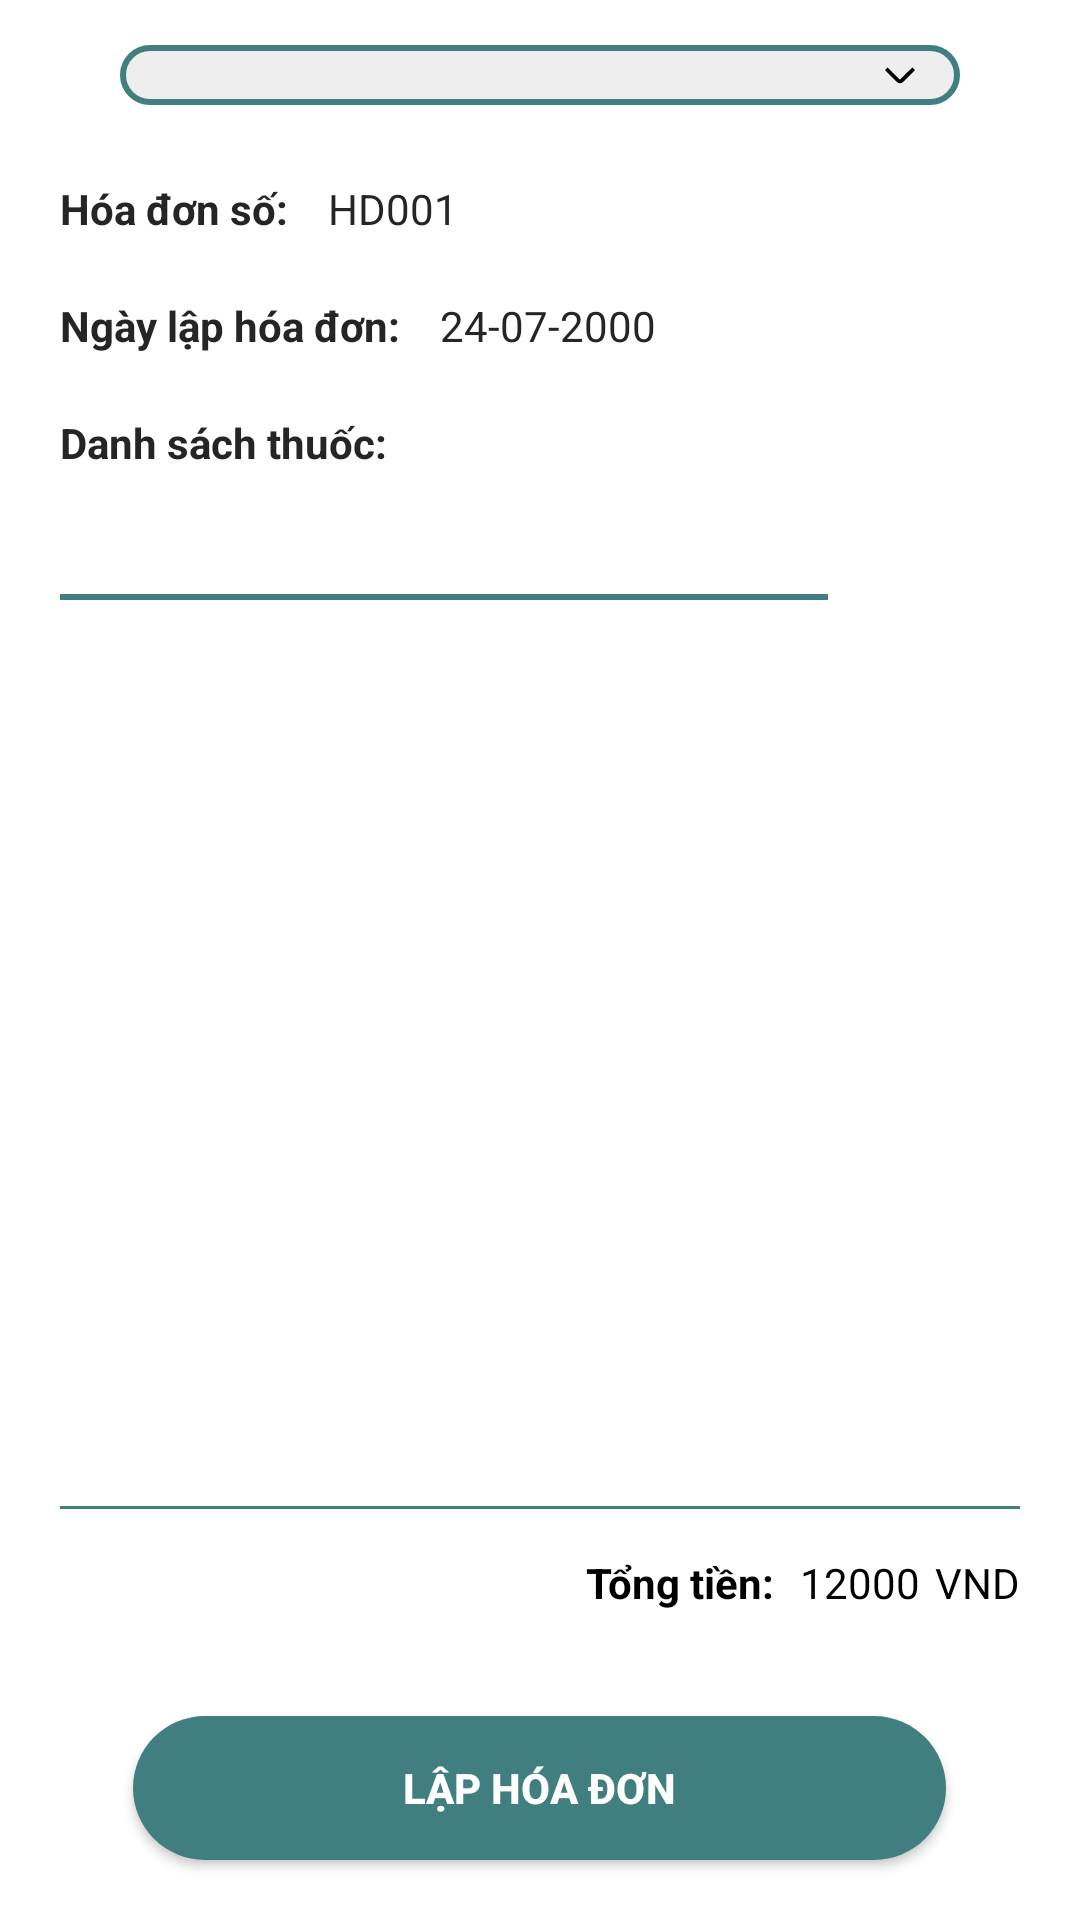

Named icons in this screenshot (1080 x 1920) and their bounding boxes, (x1, y1, x2, y2):
arrow down: (885, 67, 915, 84)
